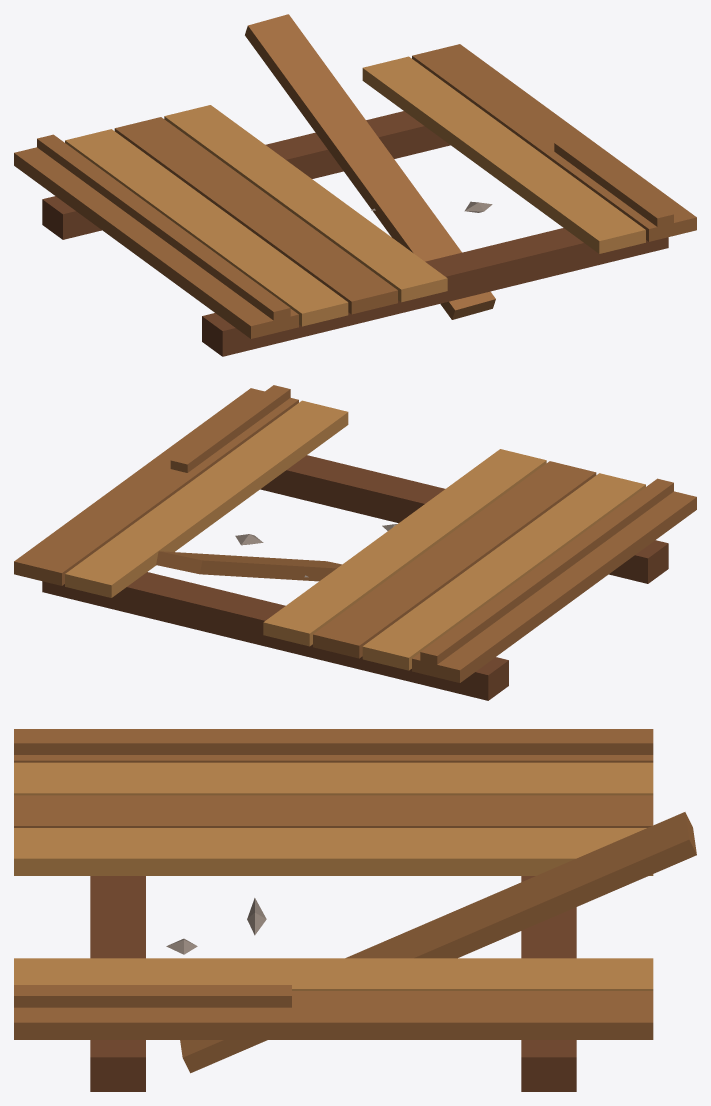
Rendered from boardwalk_broken.glb.
3 renders of one model, top to bottom at view 1: azimuth 30°, elevation 25°; view 2: azimuth 150°, elevation 25°; view 3: azimuth 270°, elevation 25°, orthographic. The views are drawn at different scales.
Parts seen in each view (by area): view 1: boardwalk_broken.001; view 2: boardwalk_broken.001; view 3: boardwalk_broken.001.
Boxes of the visible parts, x1,y1,x2,y2 form: boardwalk_broken.001: (14, 14, 696, 356); boardwalk_broken.001: (14, 385, 696, 700); boardwalk_broken.001: (14, 729, 696, 1091).
Bounding box in the file's own units: 2 × 0.7026 × 1.97.
